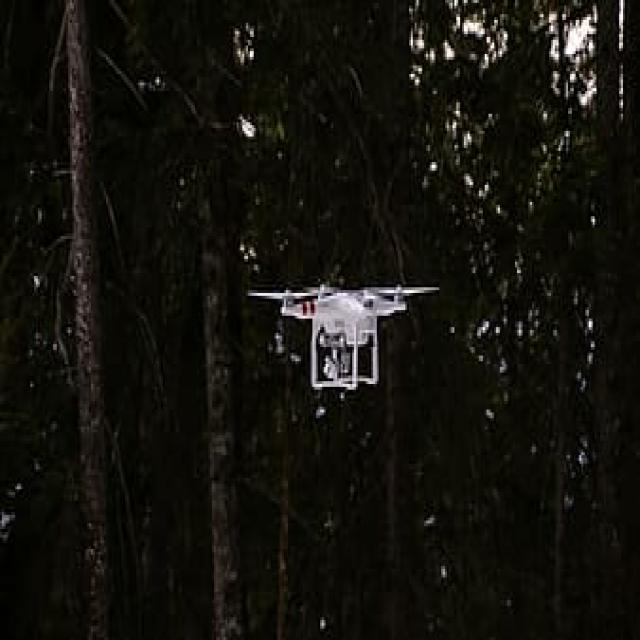drone: (254, 278, 442, 405)
